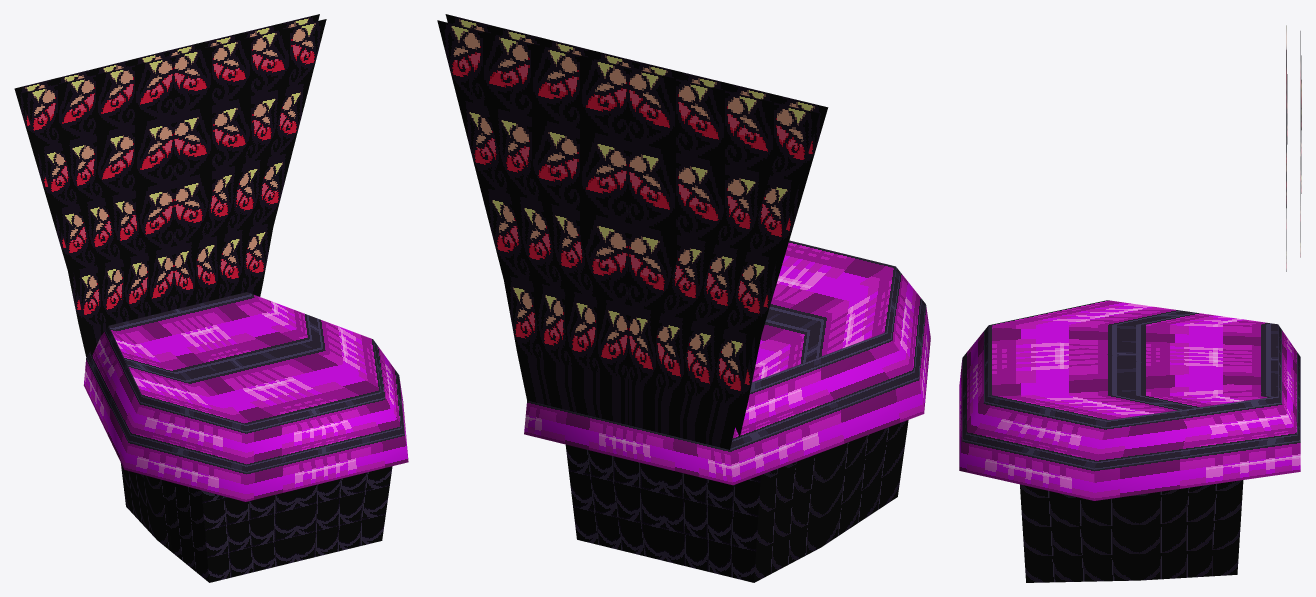
The model's file is 3685kg_ko_isu.gltf.
3 views of the same model, side by side, from view 1: azimuth 30°, elevation 25°; view 2: azimuth 150°, elevation 25°; view 3: azimuth 270°, elevation 25° (orthographic). The views are drawn at different scales.
Visible parts, largest first — view 1: 3685kg_ko_isu; view 2: 3685kg_ko_isu; view 3: 3685kg_ko_isu.
Boxes of the visible parts, box(x1,y1,x2,y2) form: 3685kg_ko_isu: box(14, 14, 408, 582); 3685kg_ko_isu: box(437, 14, 930, 582); 3685kg_ko_isu: box(959, 25, 1301, 582).
Size of the model in its own units: 0.8447 by 1.1 by 0.7681.
4 materials, 4 textured.
